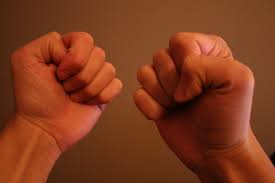fist: (151, 36, 243, 154), (27, 30, 114, 120)
